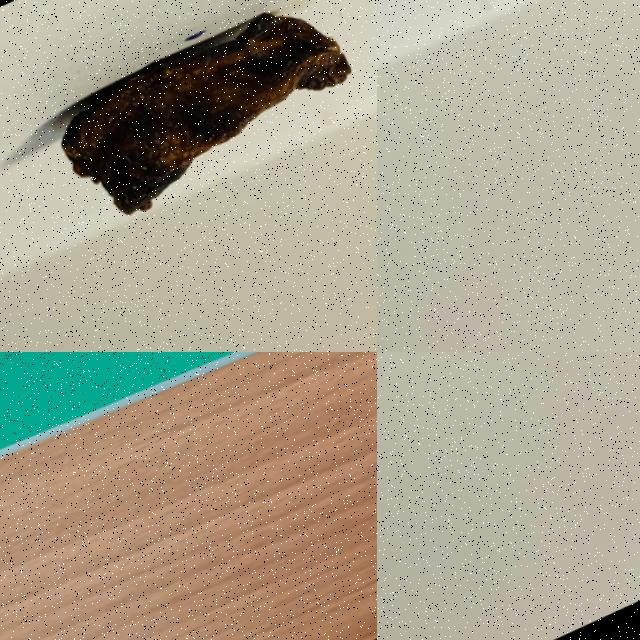Agglomerated_cocoabeans: (0, 352, 376, 411)
Flat_cocoabeans: (0, 0, 376, 272), (377, 0, 608, 93)
